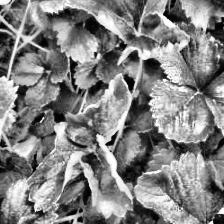Powdery Mildew Leaf: (132, 151, 224, 224), (26, 121, 91, 215), (63, 72, 131, 147), (78, 134, 134, 219), (118, 11, 190, 66), (60, 0, 136, 43)
